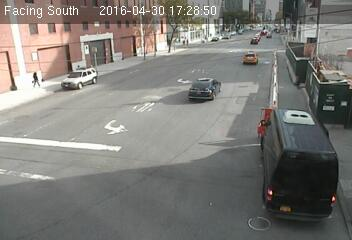neg: (131, 45, 150, 71), (122, 41, 137, 61), (164, 42, 172, 53)
pos: (28, 68, 42, 88)
